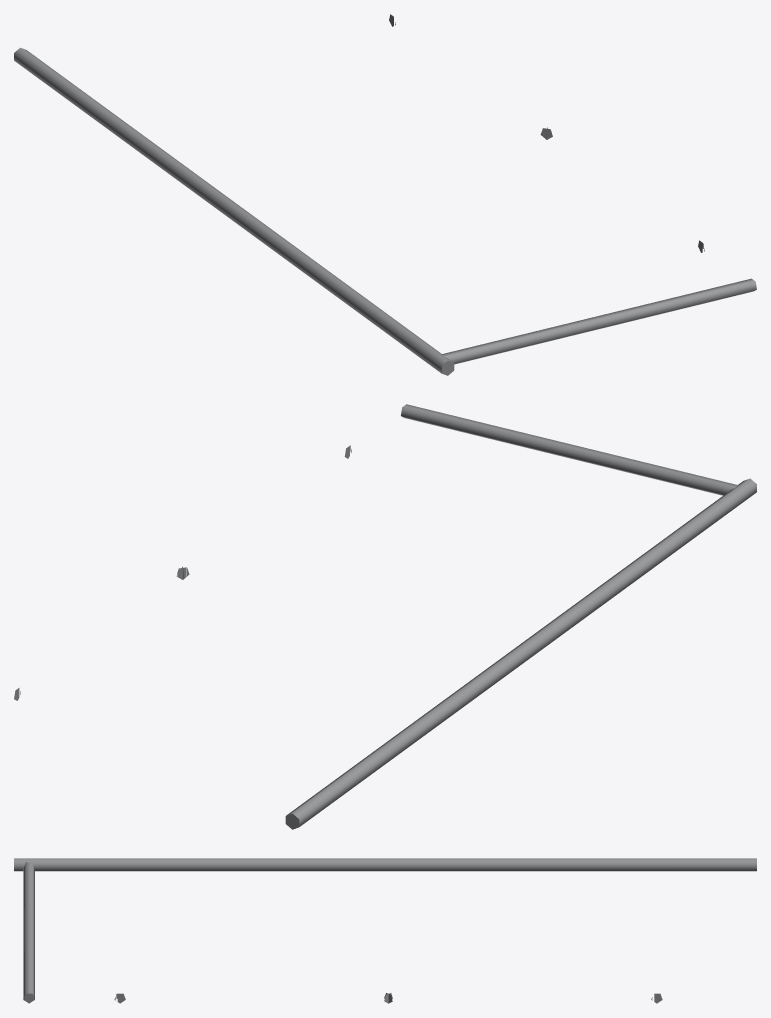
3 renders of one model, top to bottom at view 1: azimuth 30°, elevation 25°; view 2: azimuth 150°, elevation 25°; view 3: azimuth 270°, elevation 25°, orthographic. The views are drawn at different scales.
Bounding box in the file's own units: 1.07 × 0.048 × 2.45.
